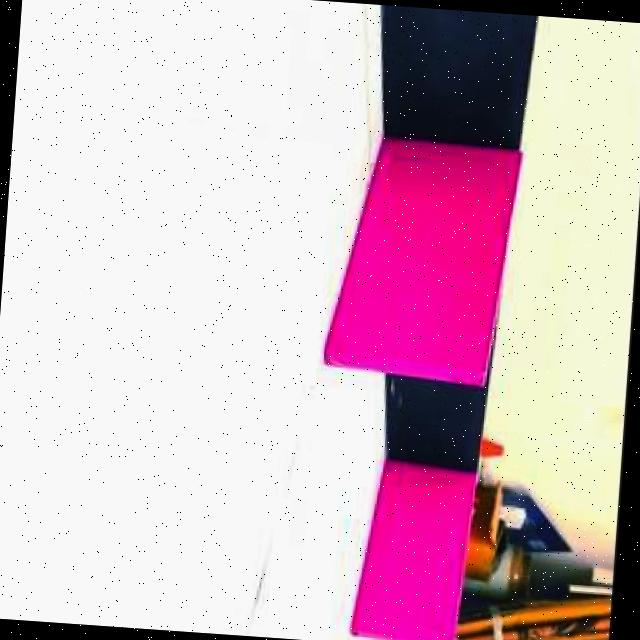xparking: (327, 137, 500, 378), (348, 463, 478, 640)
